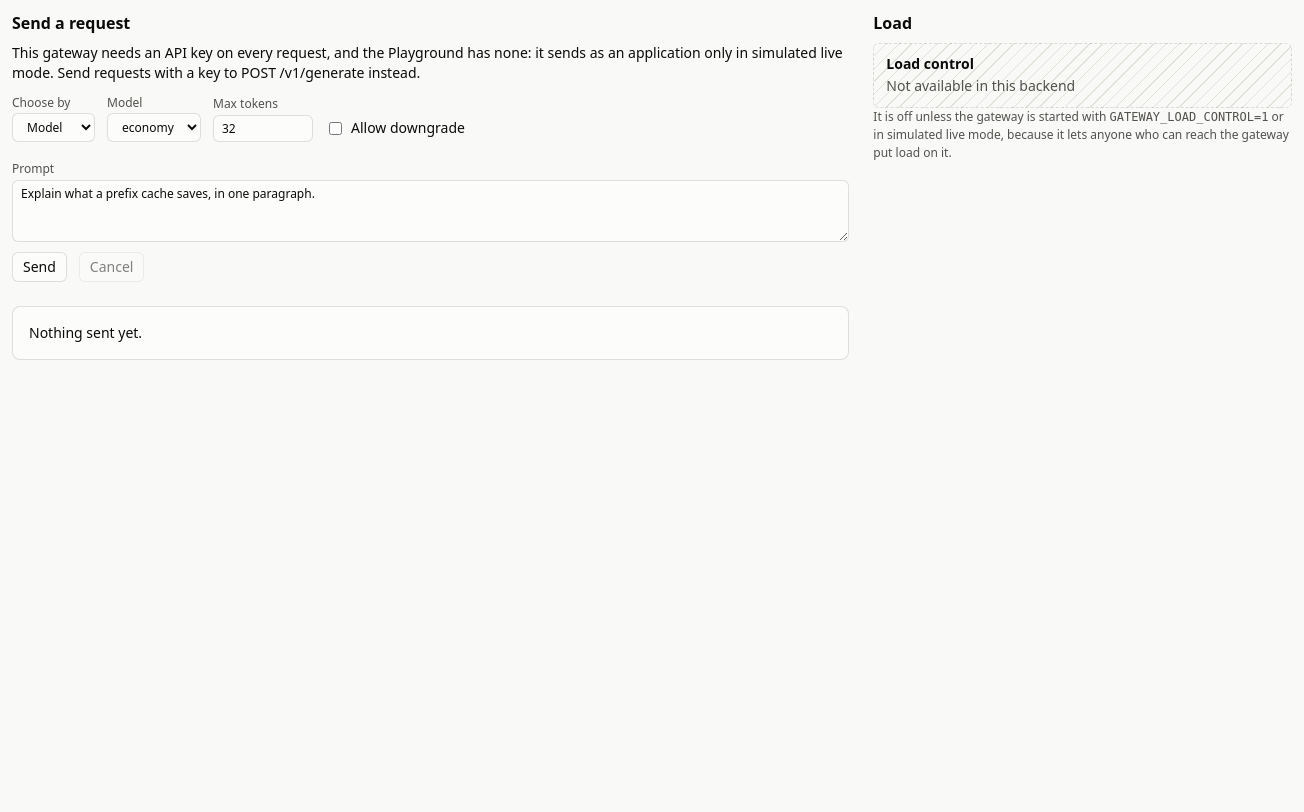
response › says a header was not sent, not that it was empty
Click the button "Send" at (39,267), box top-left (12, 252), bottom-right (67, 282)
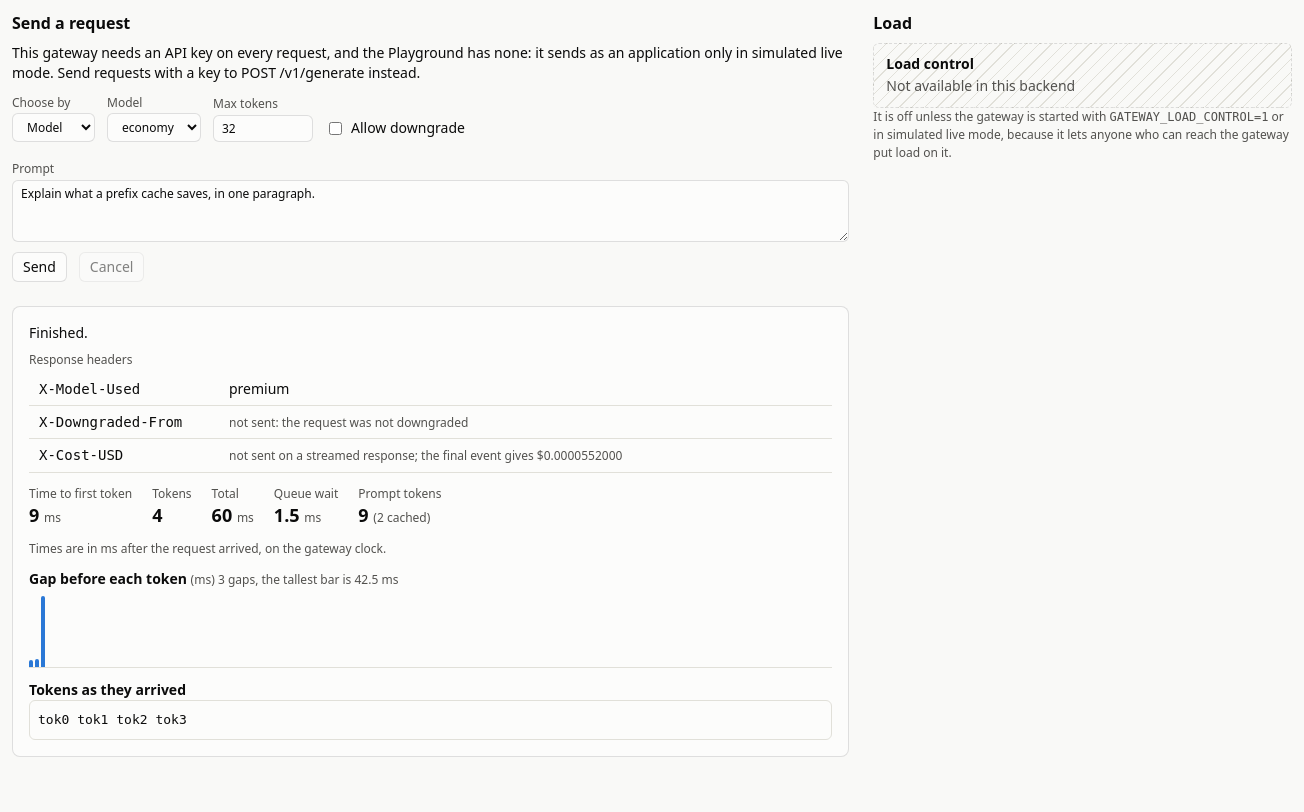
Expected: the text "Finished." is shown, top-left (29, 323), bottom-right (88, 342)
Expected: the text "not sent: the request was not downgraded" is shown, top-left (229, 414), bottom-right (468, 431)
